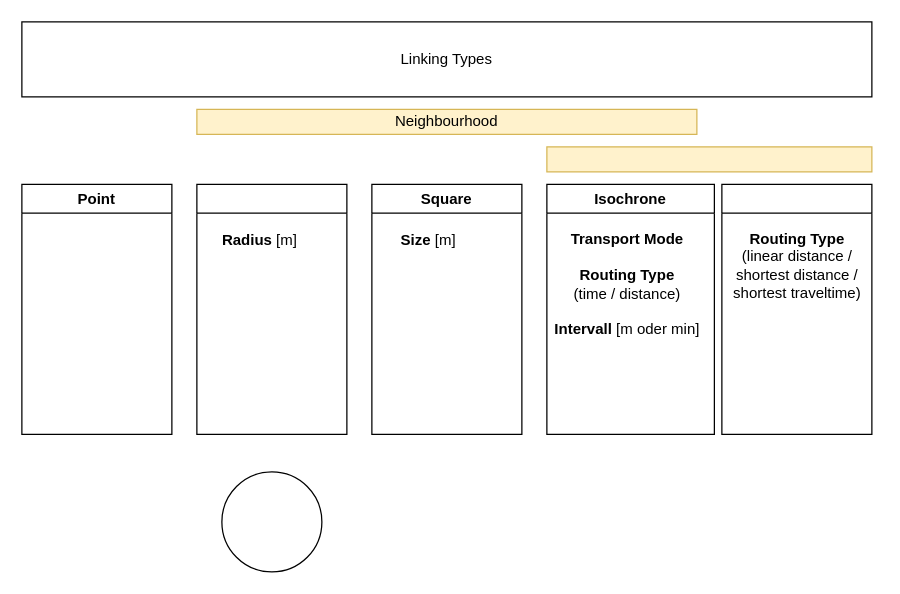
The diagram is 900 pixels wide and 594 high, and some of its shapes have lost their labels. Each missing label, with the box of its shape:
Circle: (196, 183, 347, 434)
Nearest POI: (721, 183, 872, 434)
Routing: (546, 146, 872, 172)
